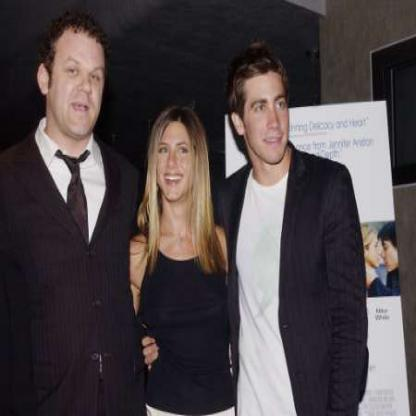face: (50, 17, 110, 140), (242, 52, 293, 168), (153, 109, 199, 203)
